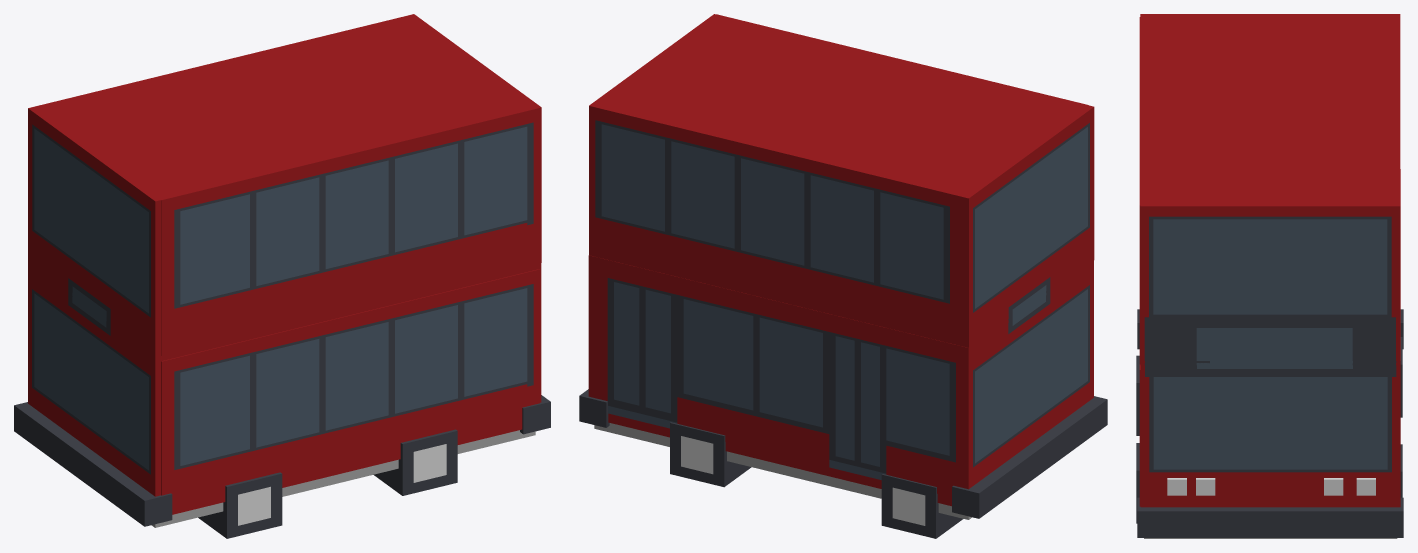
File: bus.fbx
3 views of the same model, side by side, from view 1: azimuth 30°, elevation 25°; view 2: azimuth 150°, elevation 25°; view 3: azimuth 270°, elevation 25° (orthographic). The views are drawn at different scales.
Visible parts, largest first — view 1: bus; view 2: bus; view 3: bus.
Part boxes in pixels (box(x1,y1,x2,y2)): bus: box(14, 14, 550, 538); bus: box(579, 14, 1107, 538); bus: box(1136, 14, 1403, 538).
Bounding box in the file's own units: 6.63 × 5.5 × 3.71.
